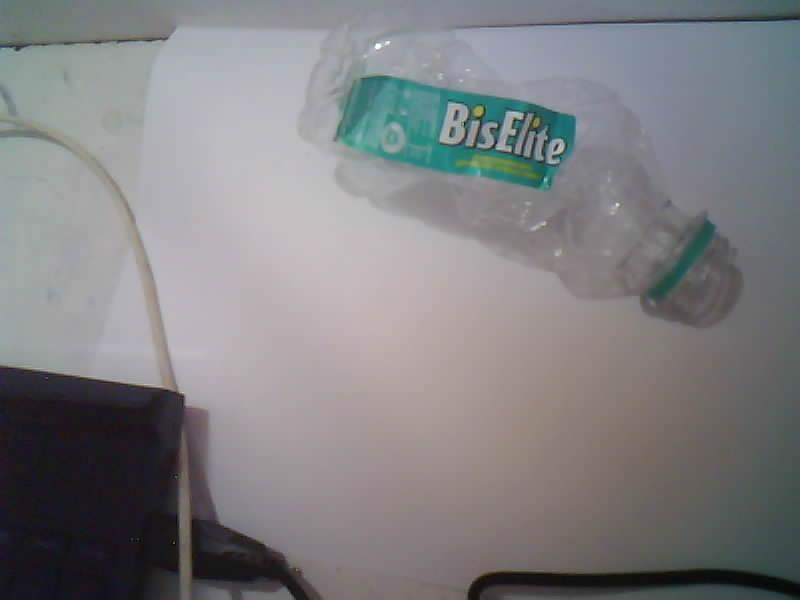non-biodegradable: (298, 24, 742, 327)
